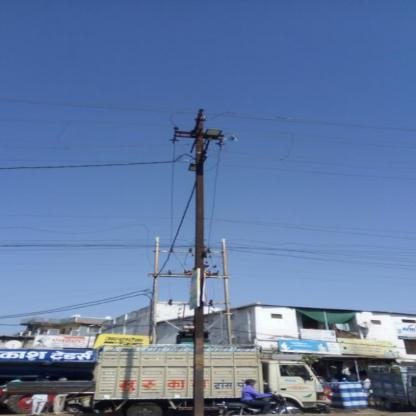Electrical Pole: (161, 104, 236, 414)
